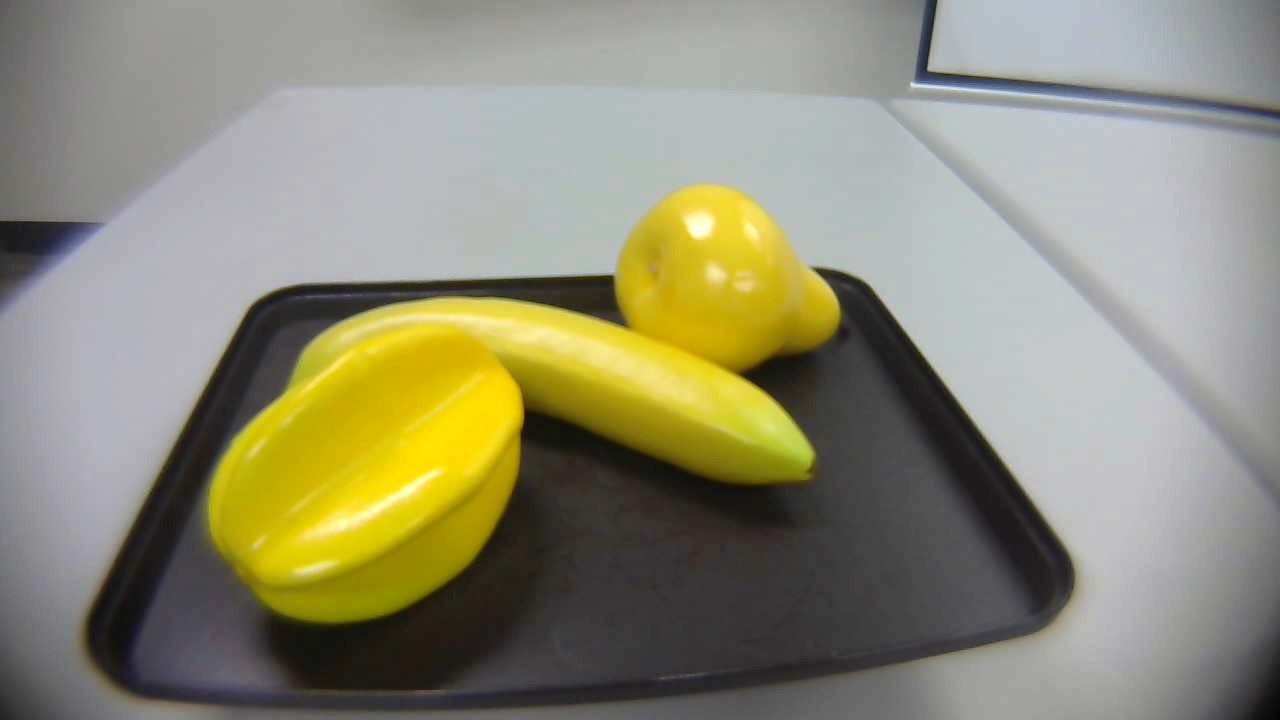banana: (279, 289, 819, 483)
star fruit: (199, 317, 527, 620)
yellow pear: (614, 186, 860, 375)
